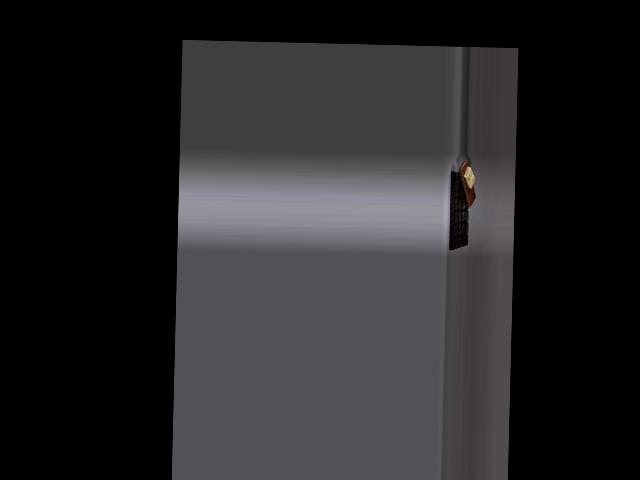chocolate: (446, 166, 472, 251)
